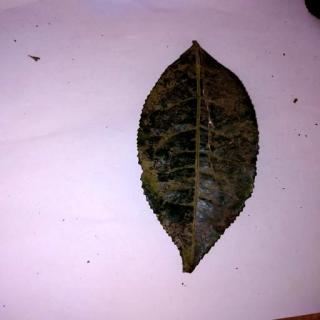Anthracnose: (138, 39, 261, 275)
